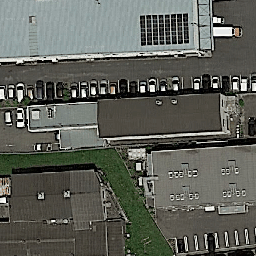car: (212, 25, 243, 38), (15, 107, 27, 129), (16, 81, 26, 104), (33, 142, 53, 153), (3, 109, 14, 127), (35, 79, 44, 101), (247, 115, 256, 137), (69, 80, 79, 99), (46, 81, 55, 102), (89, 77, 98, 98), (118, 77, 128, 95), (55, 80, 64, 99), (171, 74, 180, 93), (202, 72, 211, 91), (206, 233, 215, 252), (99, 78, 108, 96), (148, 76, 157, 94), (221, 75, 230, 93), (80, 80, 88, 100), (158, 77, 168, 93), (231, 75, 240, 92), (192, 76, 202, 91), (26, 83, 34, 101), (129, 79, 137, 95), (139, 79, 147, 95), (241, 76, 249, 92), (250, 71, 256, 92), (109, 81, 117, 96), (212, 74, 220, 89), (177, 238, 185, 253), (8, 83, 15, 99), (1, 84, 7, 101)
